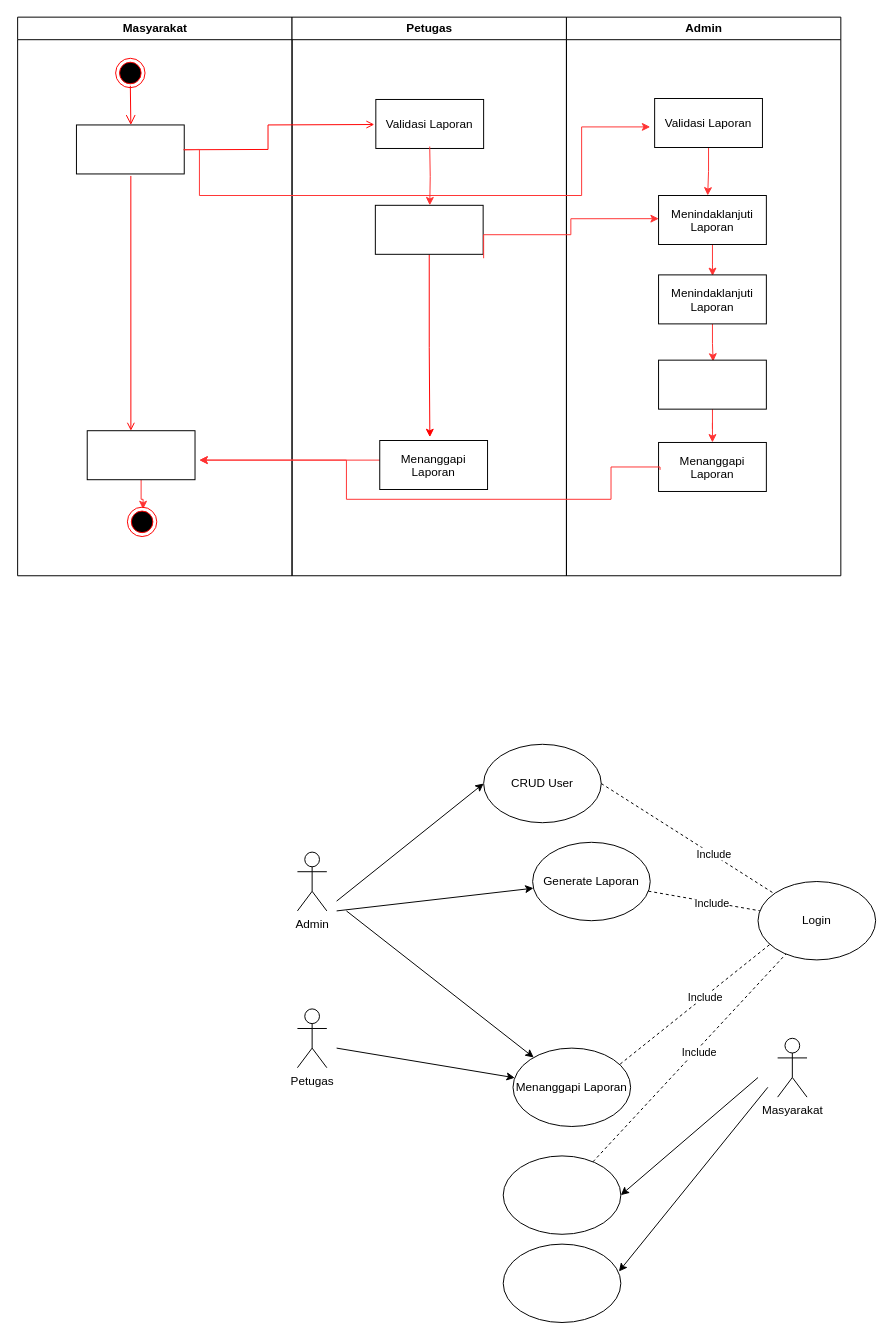
Image size: 893x1340. Some labels were removed from this diagram. The shapes that lost their labels are listed below. From the top down, each one's box as (x1, y1, x2, y2) in pixels, then its label:
(75, 124, 184, 174): Melaporkan Pengaduan
(374, 204, 483, 254): Meneruskan ke pihak yang berwenang
(658, 359, 766, 409): Konfirmasi ke Petugas
(86, 430, 195, 480): Laporan Selesai
(502, 1155, 621, 1234): Membuat Laporan
(502, 1243, 621, 1323): Regist
